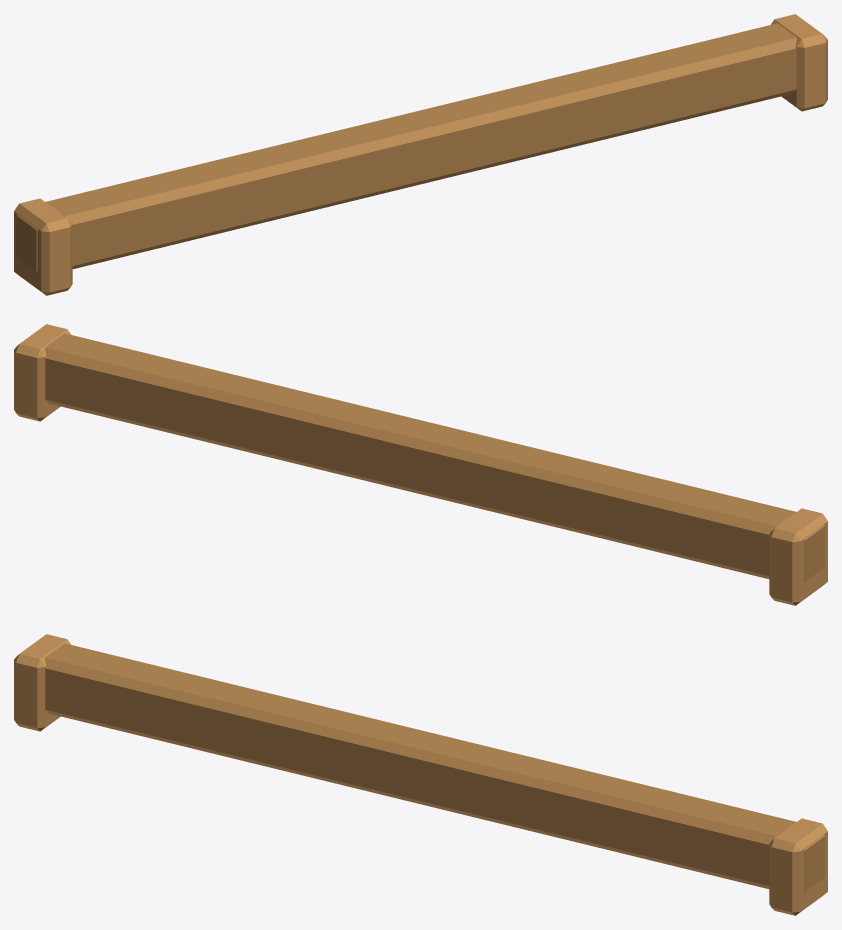
File: ceiling_beam.glb
3 views of the same model, one above another, from view 1: azimuth 30°, elevation 25°; view 2: azimuth 150°, elevation 25°; view 3: azimuth 330°, elevation 25° (orthographic).
Visible parts, largest first — view 1: ceiling_beam; view 2: ceiling_beam; view 3: ceiling_beam.
Boxes of the visible parts, x1,y1,x2,y2 form: ceiling_beam: (14, 14, 827, 295); ceiling_beam: (14, 324, 827, 605); ceiling_beam: (14, 634, 827, 915).
Size of the model in its own units: 3.01 by 0.264 by 0.22.
